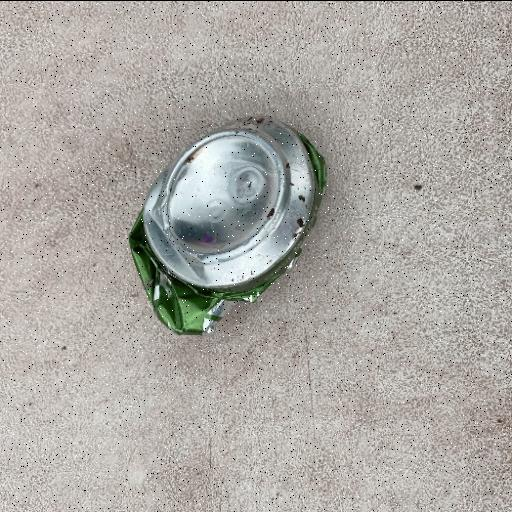Metal: (126, 114, 329, 337)
